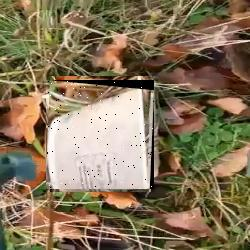restaffald: (46, 80, 154, 189)
